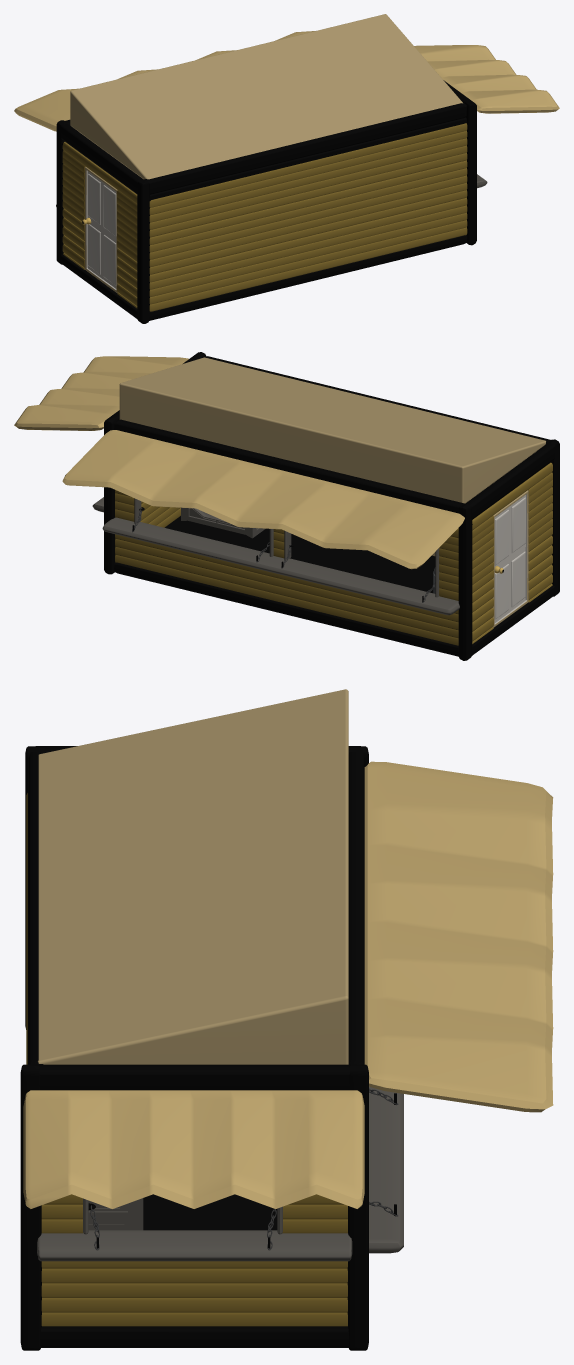
Rendered from Foodstand.fbx.
3 renders of one model, top to bottom at view 1: azimuth 30°, elevation 25°; view 2: azimuth 150°, elevation 25°; view 3: azimuth 270°, elevation 25°, orthographic. The views are drawn at different scales.
Parts seen in each view (by area): view 1: pCube607, pCube573, pCube572, pCube577, polySurface788, pCube560, pCube565, pCube570, pCube561, pCube566, pCube556, pCube557 (+17 smaller); view 2: pCube607, pCube503, pCube464, pCube573, pCube578, pCube502, pCube554, polySurface788, pCube459, pCube460, pCube458, pCube501 (+9 smaller); view 3: pCube607, pCube503, pCube573, pCube511, pCube516, pCube574, pCube464, pCube502, pCube508, pCube506, pCube505, pCube507 (+8 smaller).
Part boxes in pixels (x1=…): pCube607: x1=70, y1=14, x2=462, y2=179; pCube573: x1=414, y1=45, x2=559, y2=113; pCube572: x1=144, y1=103, x2=466, y2=194; pCube577: x1=149, y1=235, x2=467, y2=320; polySurface788: x1=82, y1=171, x2=116, y2=288; pCube560: x1=149, y1=197, x2=467, y2=282; pCube565: x1=149, y1=160, x2=467, y2=244; pCube570: x1=149, y1=123, x2=467, y2=207; pCube561: x1=149, y1=190, x2=467, y2=274; pCube566: x1=149, y1=153, x2=467, y2=237; pCube556: x1=149, y1=227, x2=467, y2=311; pCube557: x1=149, y1=220, x2=467, y2=304; pCube607: x1=119, y1=357, x2=545, y2=503; pCube503: x1=62, y1=430, x2=464, y2=569; pCube464: x1=102, y1=517, x2=459, y2=615; pCube573: x1=14, y1=356, x2=188, y2=430; pCube578: x1=165, y1=516, x2=435, y2=593; pCube502: x1=114, y1=419, x2=464, y2=513; pCube554: x1=114, y1=562, x2=458, y2=656; polySurface788: x1=494, y1=495, x2=525, y2=622; pCube459: x1=115, y1=546, x2=458, y2=638; pCube460: x1=115, y1=538, x2=458, y2=630; pCube458: x1=115, y1=554, x2=458, y2=645; pCube501: x1=458, y1=503, x2=472, y2=660; pCube607: x1=38, y1=689, x2=348, y2=1064; pCube503: x1=364, y1=761, x2=553, y2=1112; pCube573: x1=23, y1=1090, x2=364, y2=1208; pCube511: x1=37, y1=1230, x2=352, y2=1261; pCube516: x1=35, y1=1064, x2=360, y2=1090; pCube574: x1=40, y1=1326, x2=349, y2=1347; pCube464: x1=369, y1=1087, x2=403, y2=1253; pCube502: x1=348, y1=752, x2=364, y2=1064; pCube508: x1=41, y1=1268, x2=347, y2=1283; pCube506: x1=41, y1=1298, x2=347, y2=1312; pCube505: x1=41, y1=1312, x2=347, y2=1326; pCube507: x1=41, y1=1283, x2=347, y2=1297.
Bounding box in the file's own units: 1074 × 422 × 586.
